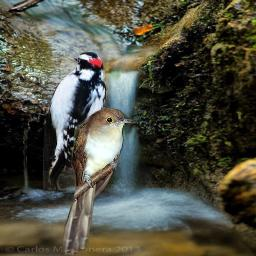Cuckoo: (62, 107, 133, 255)
Woodpecker: (41, 52, 110, 190)
